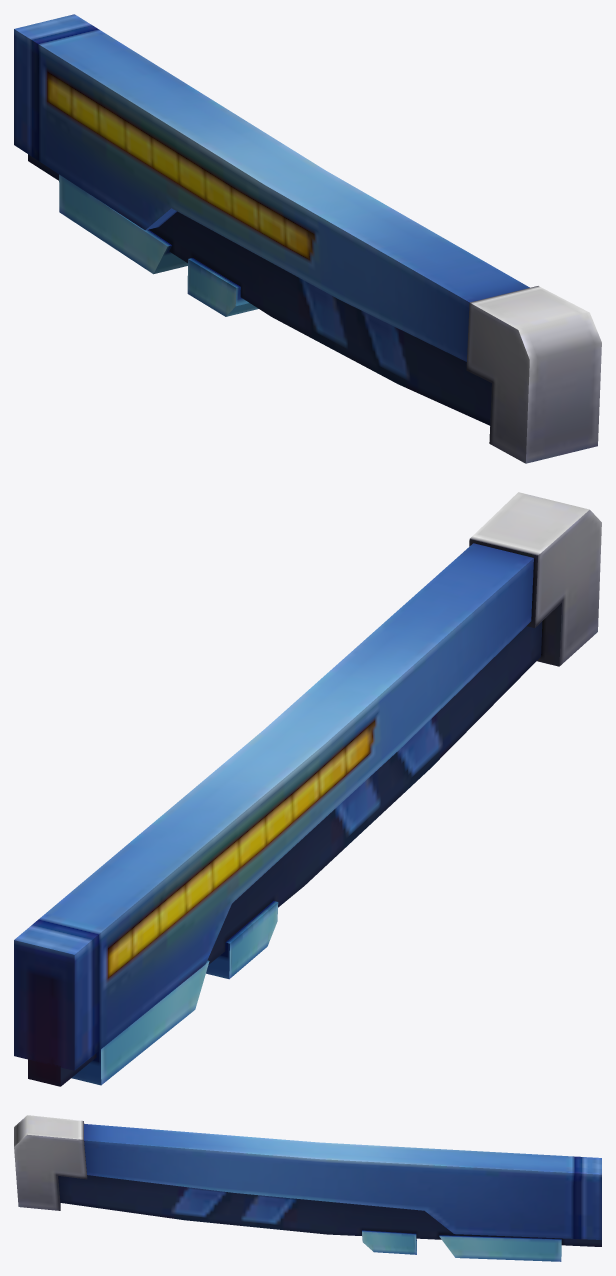
The picture shows the model from 3 angles, top to bottom: view 1: azimuth 30°, elevation 25°; view 2: azimuth 150°, elevation 25°; view 3: azimuth 270°, elevation 25°; orthographic projection. The views are drawn at different scales.
Visible parts, largest first — view 1: mSaya; view 2: mSaya; view 3: mSaya.
Boxes of the visible parts, bbox=[...] form: mSaya: bbox=[14, 14, 601, 463]; mSaya: bbox=[14, 492, 601, 1086]; mSaya: bbox=[14, 1115, 601, 1261].
Bounding box in the file's own units: 0.0439 × 0.1353 × 0.5498.
Materials: 1 (1 with a texture image).
